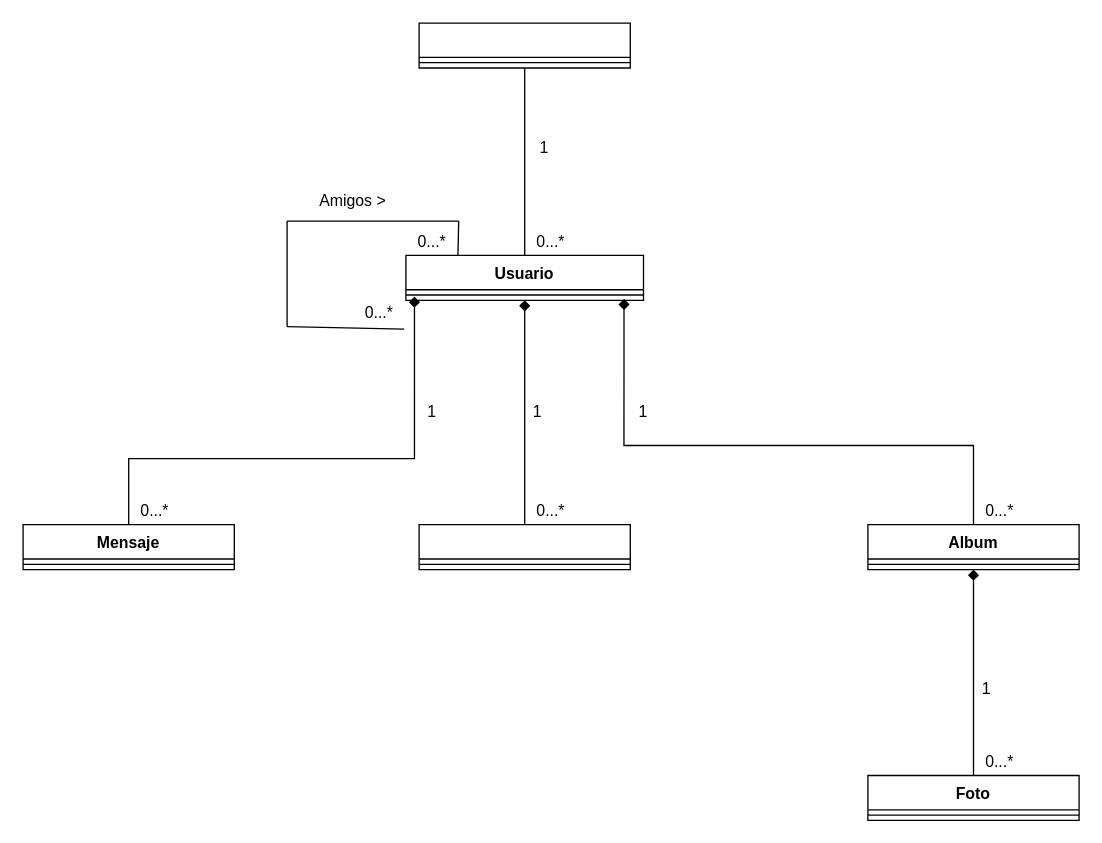
Image size: 1102x843. Some labels were removed from this diagram. The box of each missing label's shape, as (x1, y1, x2, y2) in pixels:
RedSocial: (418, 22, 630, 68)
Solicitudes: (418, 523, 630, 570)
